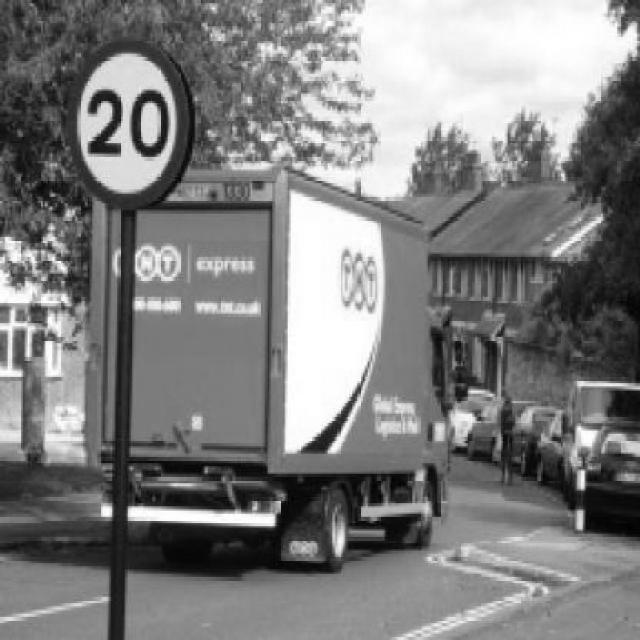Box Truck: (93, 165, 473, 573)
